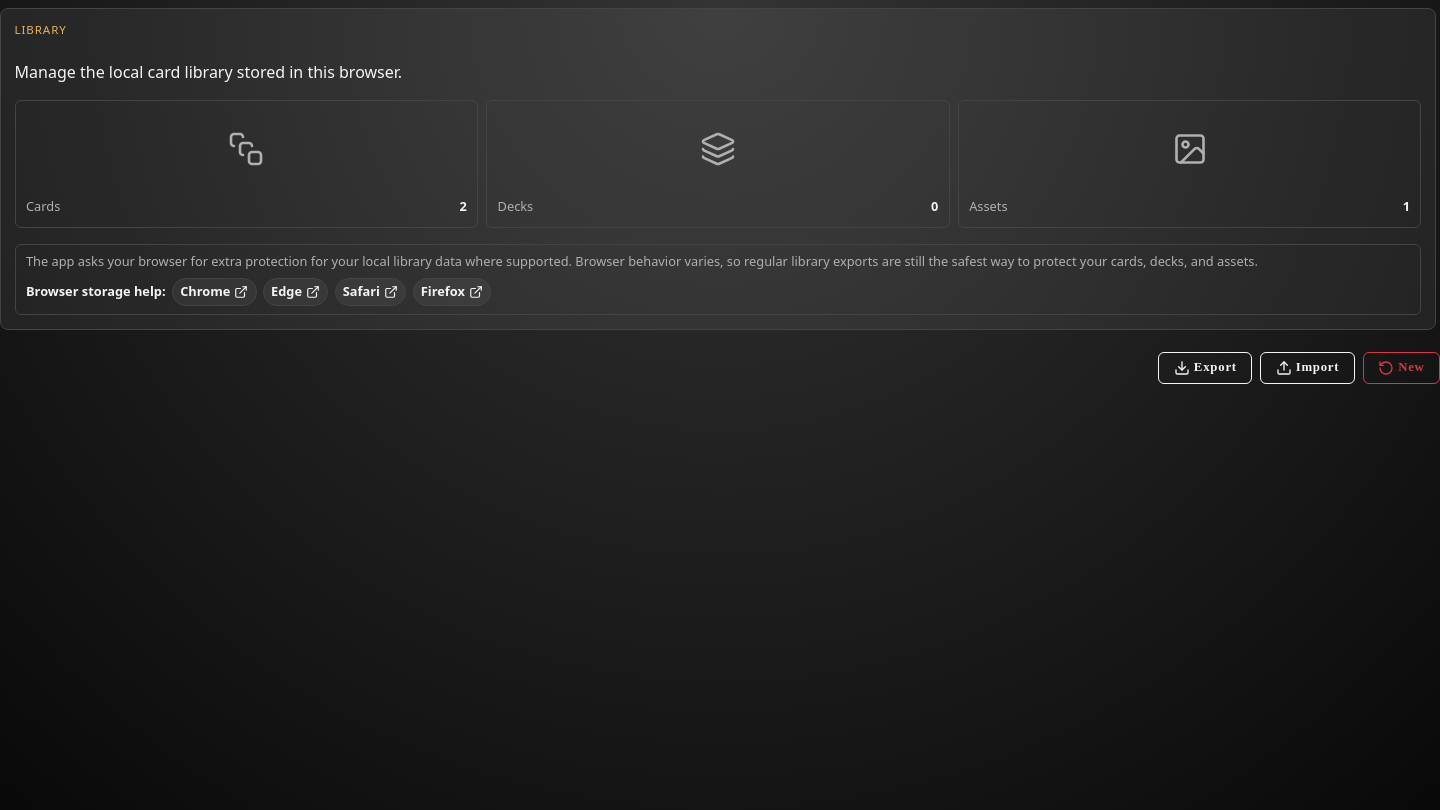
LibrarySettingsPanel (UI) › resets state and shows completion after confirmed reset
What coordinates should you click on to do the following:
click the button "New"
I would click on:
 (1401, 368)
Its box is [1363,352,1439,384].
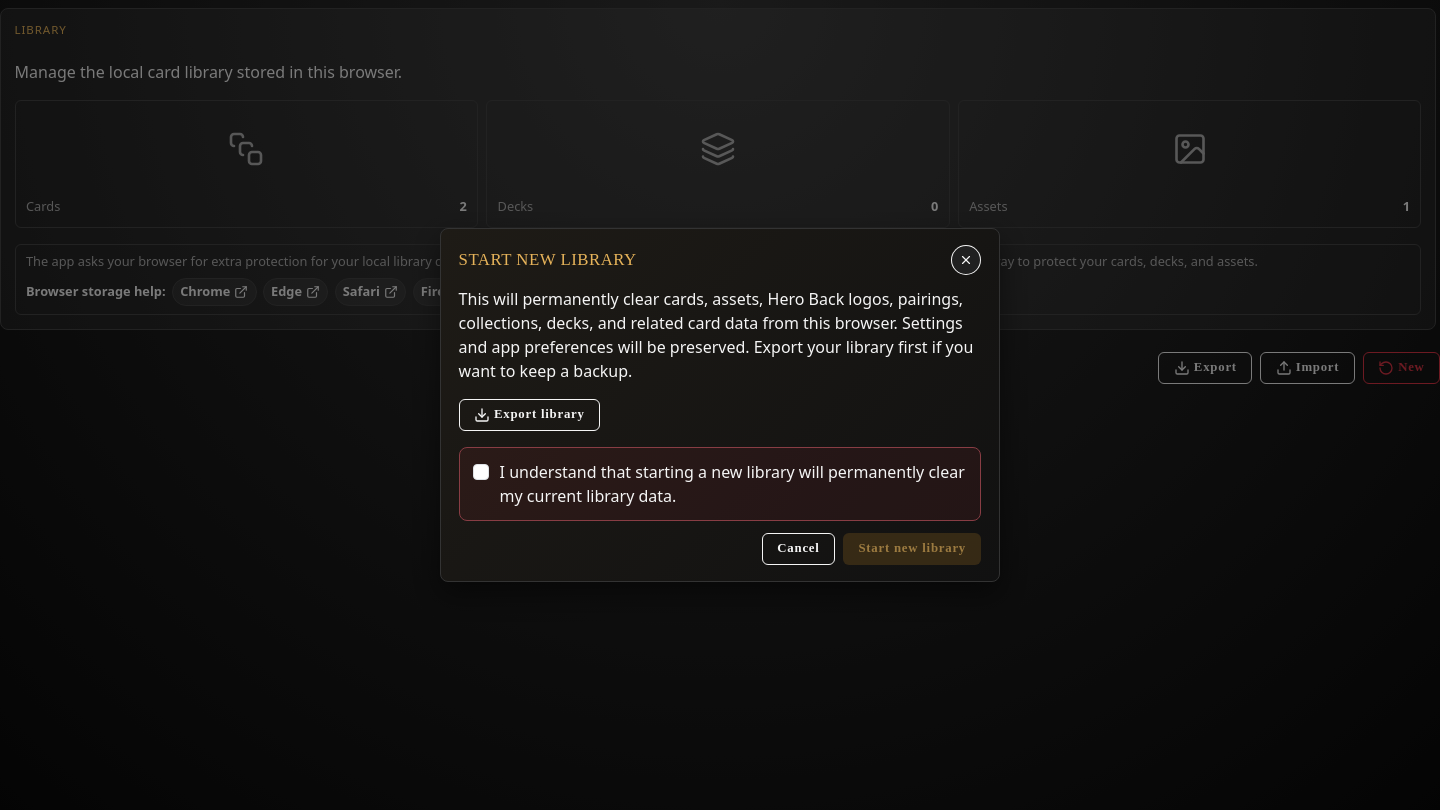
What coordinates should you click on to do the following:
click the checkbox named "I understand that starting a new library will permanently clear my current library data."
I would click on:
 (481, 472)
Its box is [473,464,489,480].
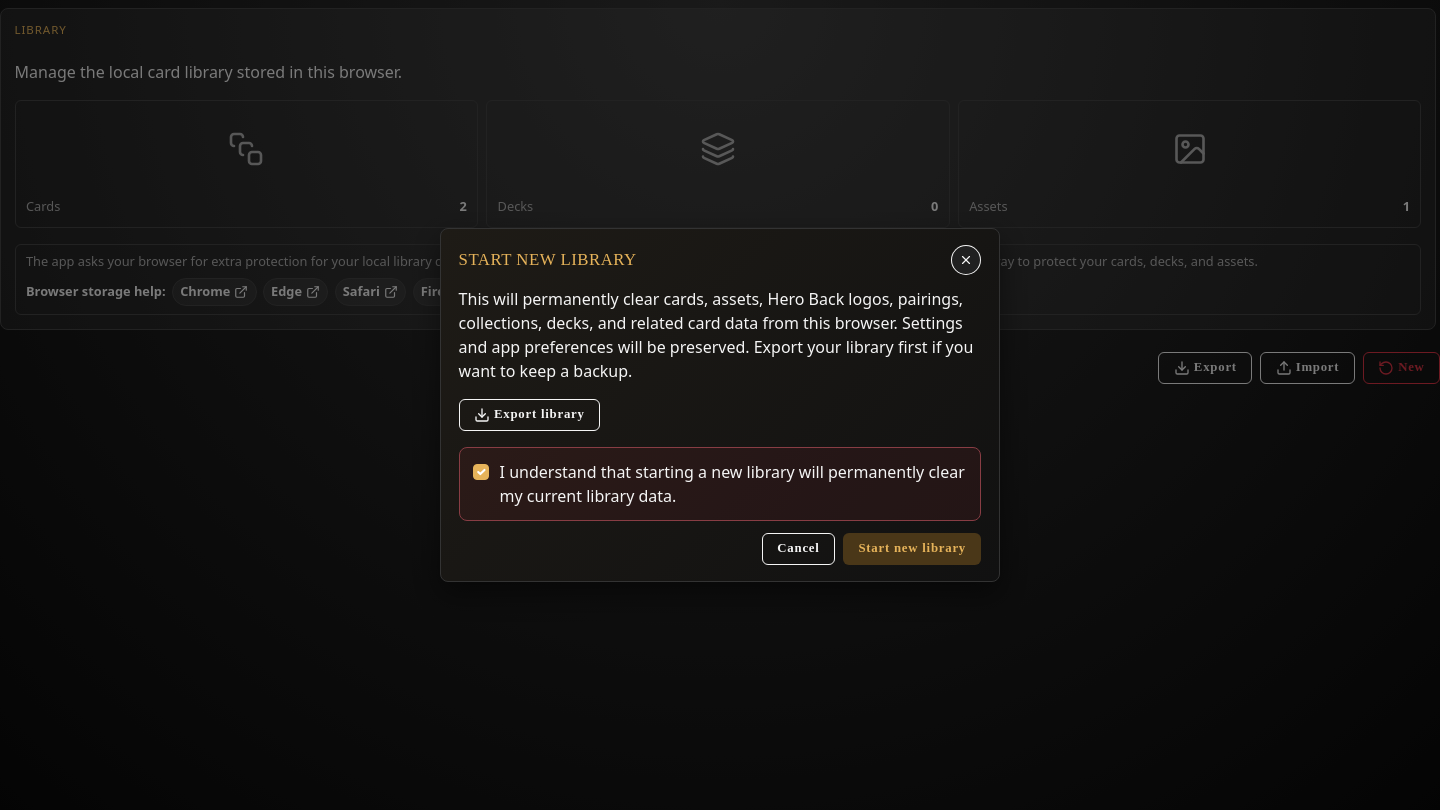
What coordinates should you click on to do the following:
click the button "Start new library"
I would click on:
 (912, 549)
Its box is [843,533,981,565].
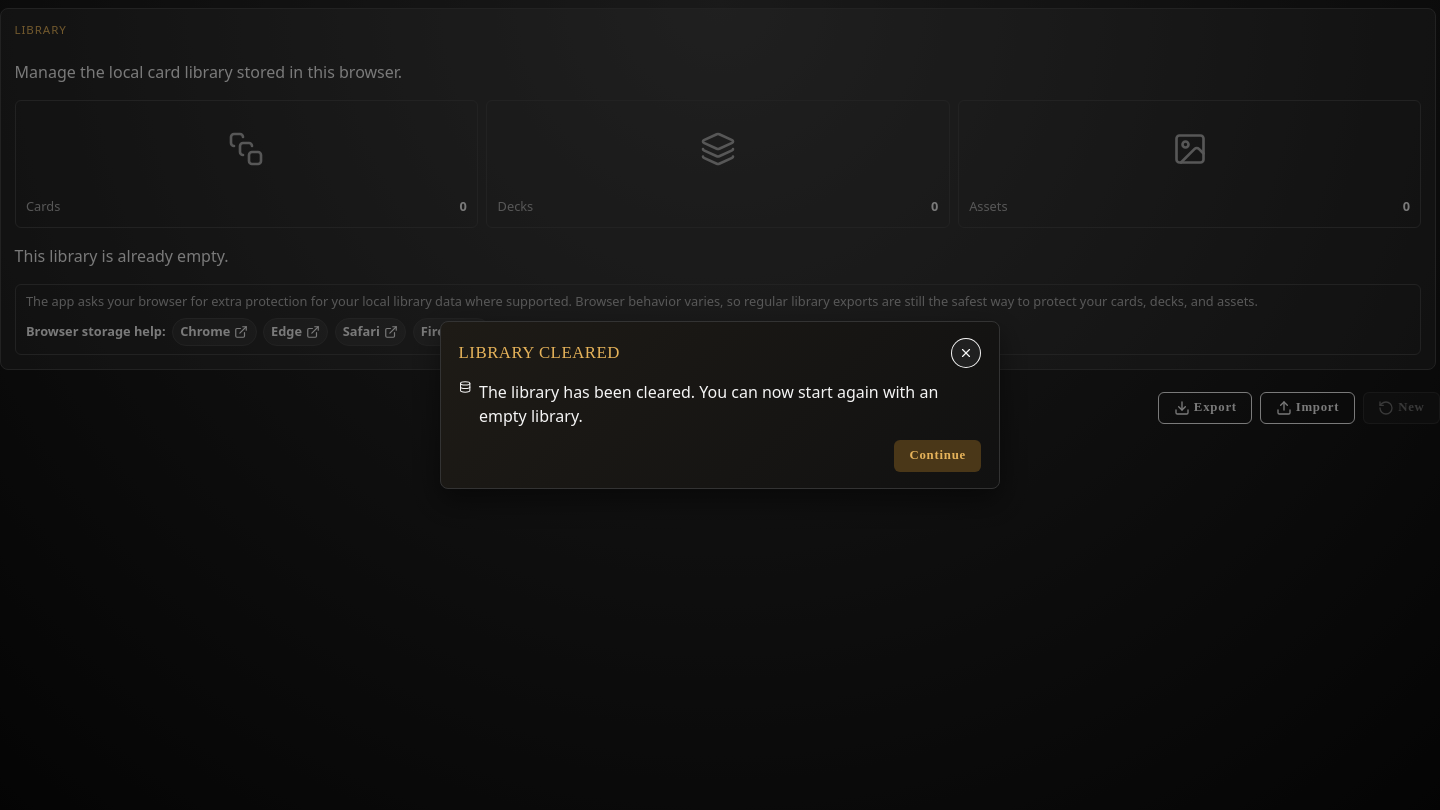
expect the heading "Library cleared" is shown: met, box [459,343,620,363]
